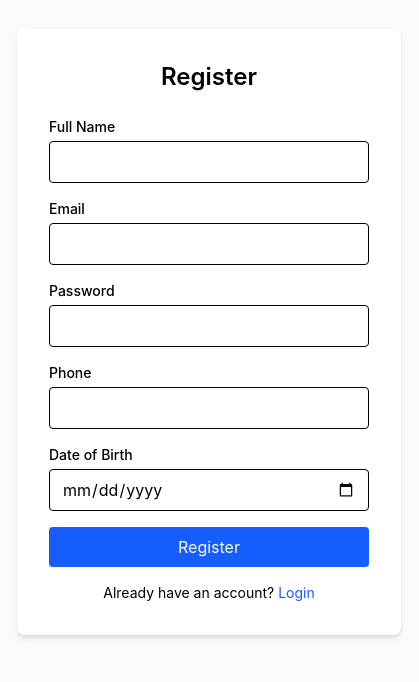
Test: Register page › shows a conflict error when the email is already registered
Type "Test User" into the field labelled "Full Name".
click(209, 162); type("Test User")  # box 49,141 -> 369,183
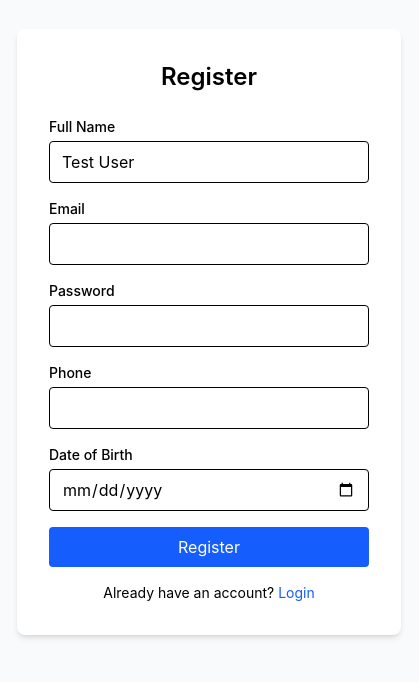
Type "existing@example.com" into the field labelled "Email".
click(209, 244); type("existing@example.com")  # box 49,223 -> 369,265
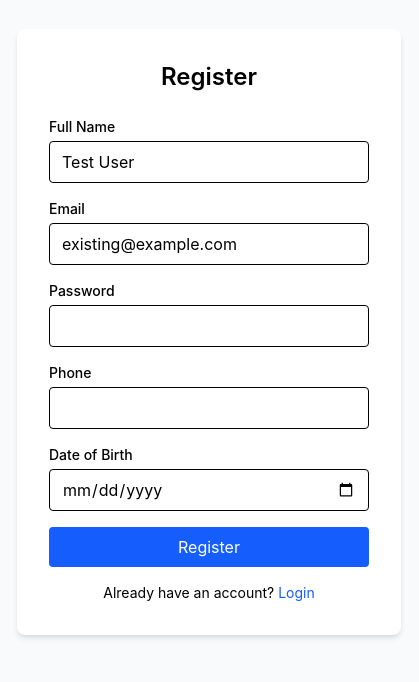
Type "Password123!" into the password field labelled "Password".
click(209, 326); type("Password123!")  # box 49,305 -> 369,347
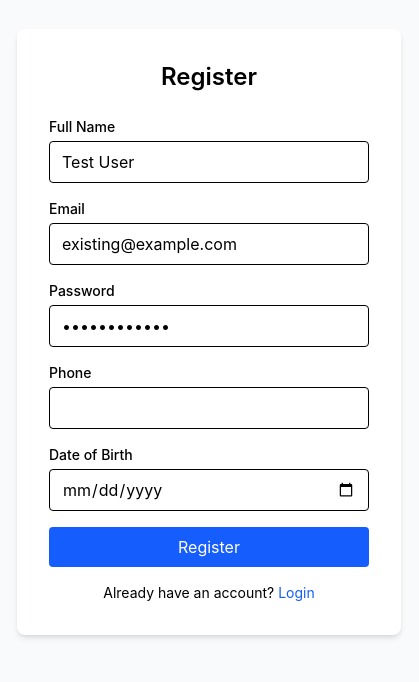
Type "0599000000" into the field labelled "Phone".
click(209, 408); type("0599000000")  # box 49,387 -> 369,429
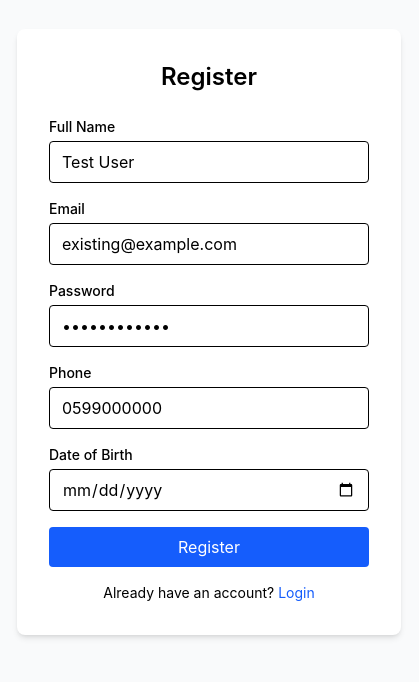
Type "2000-01-01" into the date field labelled "Date of Birth".
click(209, 490); type("2000-01-01")  # box 49,469 -> 369,511
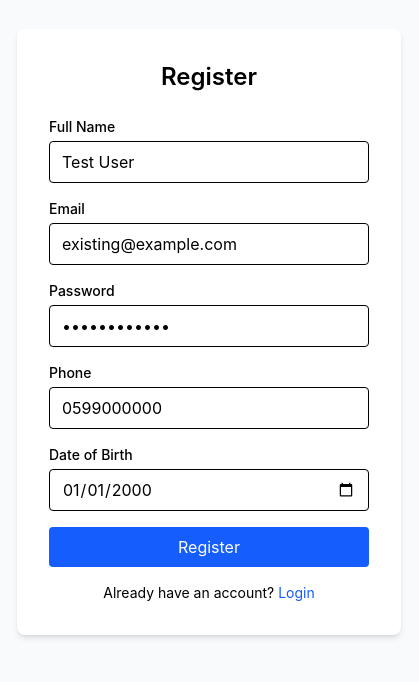
Click the button "Register".
click(209, 547)  # box 49,527 -> 369,567
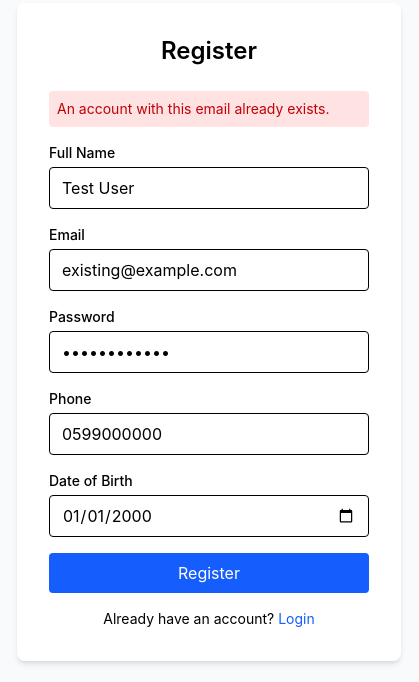
Result: the text "An account with this email already exists." is shown at 49,91 -> 369,127
